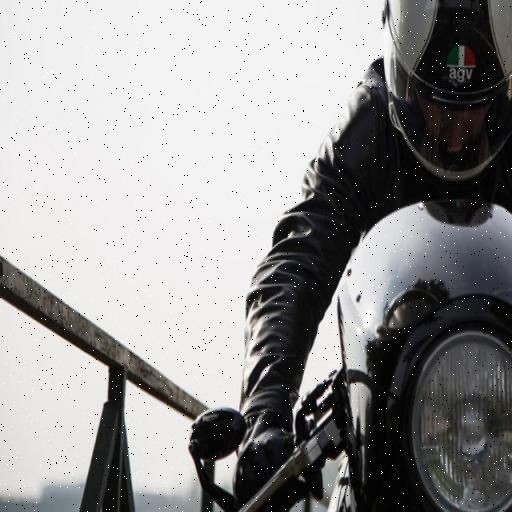Helmet: (366, 4, 512, 196)
Motor: (214, 179, 512, 512)
